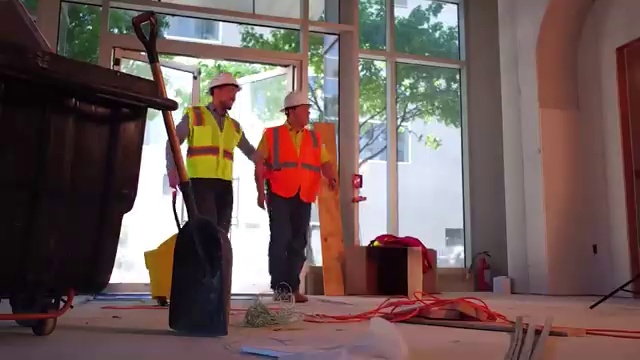helmet: (206, 59, 249, 92), (272, 87, 321, 111)
jacket: (260, 120, 342, 208), (190, 95, 238, 188)
